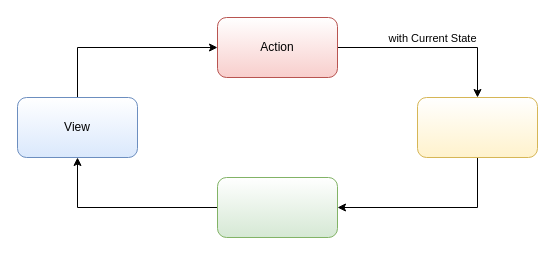
The diagram is 555 pixels wide and 255 high, and some of its shapes have lost their labels. The centre of each missing label's shape, as x and y in pixels:
"New State" goes at point 277,207.
"Store" goes at point 477,127.
